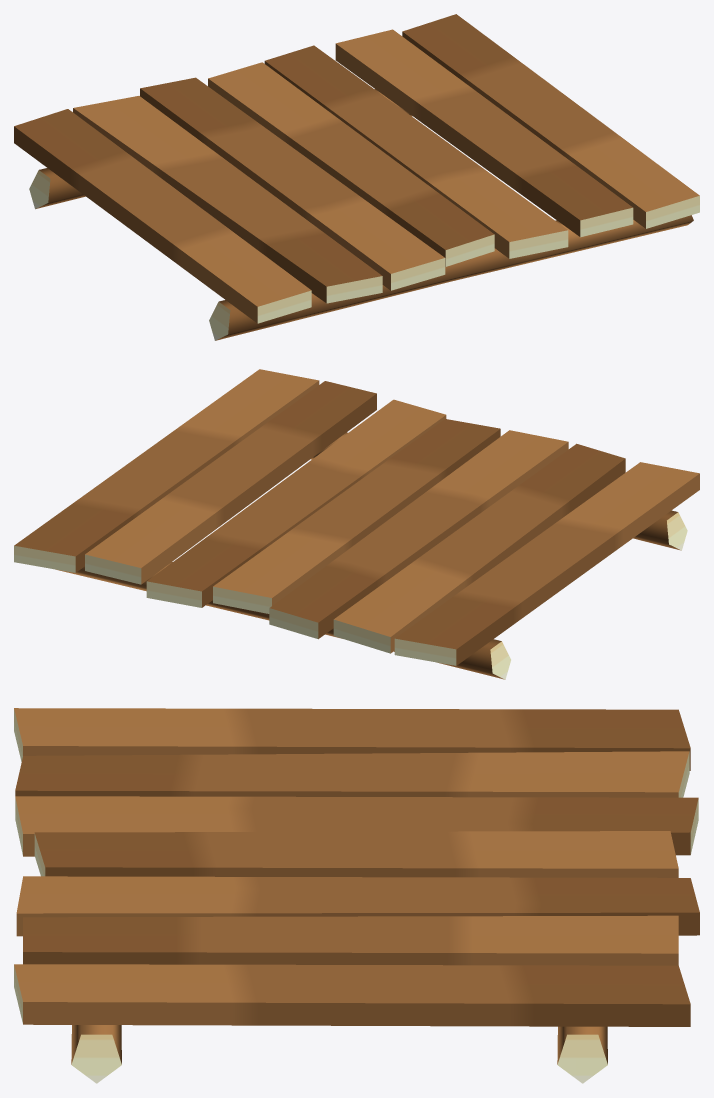
Rendered from bridge_001.fbx.
3 renders of one model, top to bottom at view 1: azimuth 30°, elevation 25°; view 2: azimuth 150°, elevation 25°; view 3: azimuth 270°, elevation 25°, orthographic. The views are drawn at different scales.
Parts seen in each view (by area): view 1: bridge.001; view 2: bridge.001; view 3: bridge.001.
Boxes of the visible parts, left/top/right/bottom form: bridge.001: left=14, top=14, right=699, bottom=340; bridge.001: left=14, top=369, right=699, bottom=679; bridge.001: left=14, top=708, right=699, bottom=1083.
Bounding box in the file's own units: 37.37 × 4.37 × 34.74.
